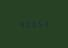five: (36, 19, 41, 27)
four: (18, 20, 23, 28)
three: (42, 19, 47, 27)
zero: (24, 20, 29, 28), (30, 20, 35, 27)
